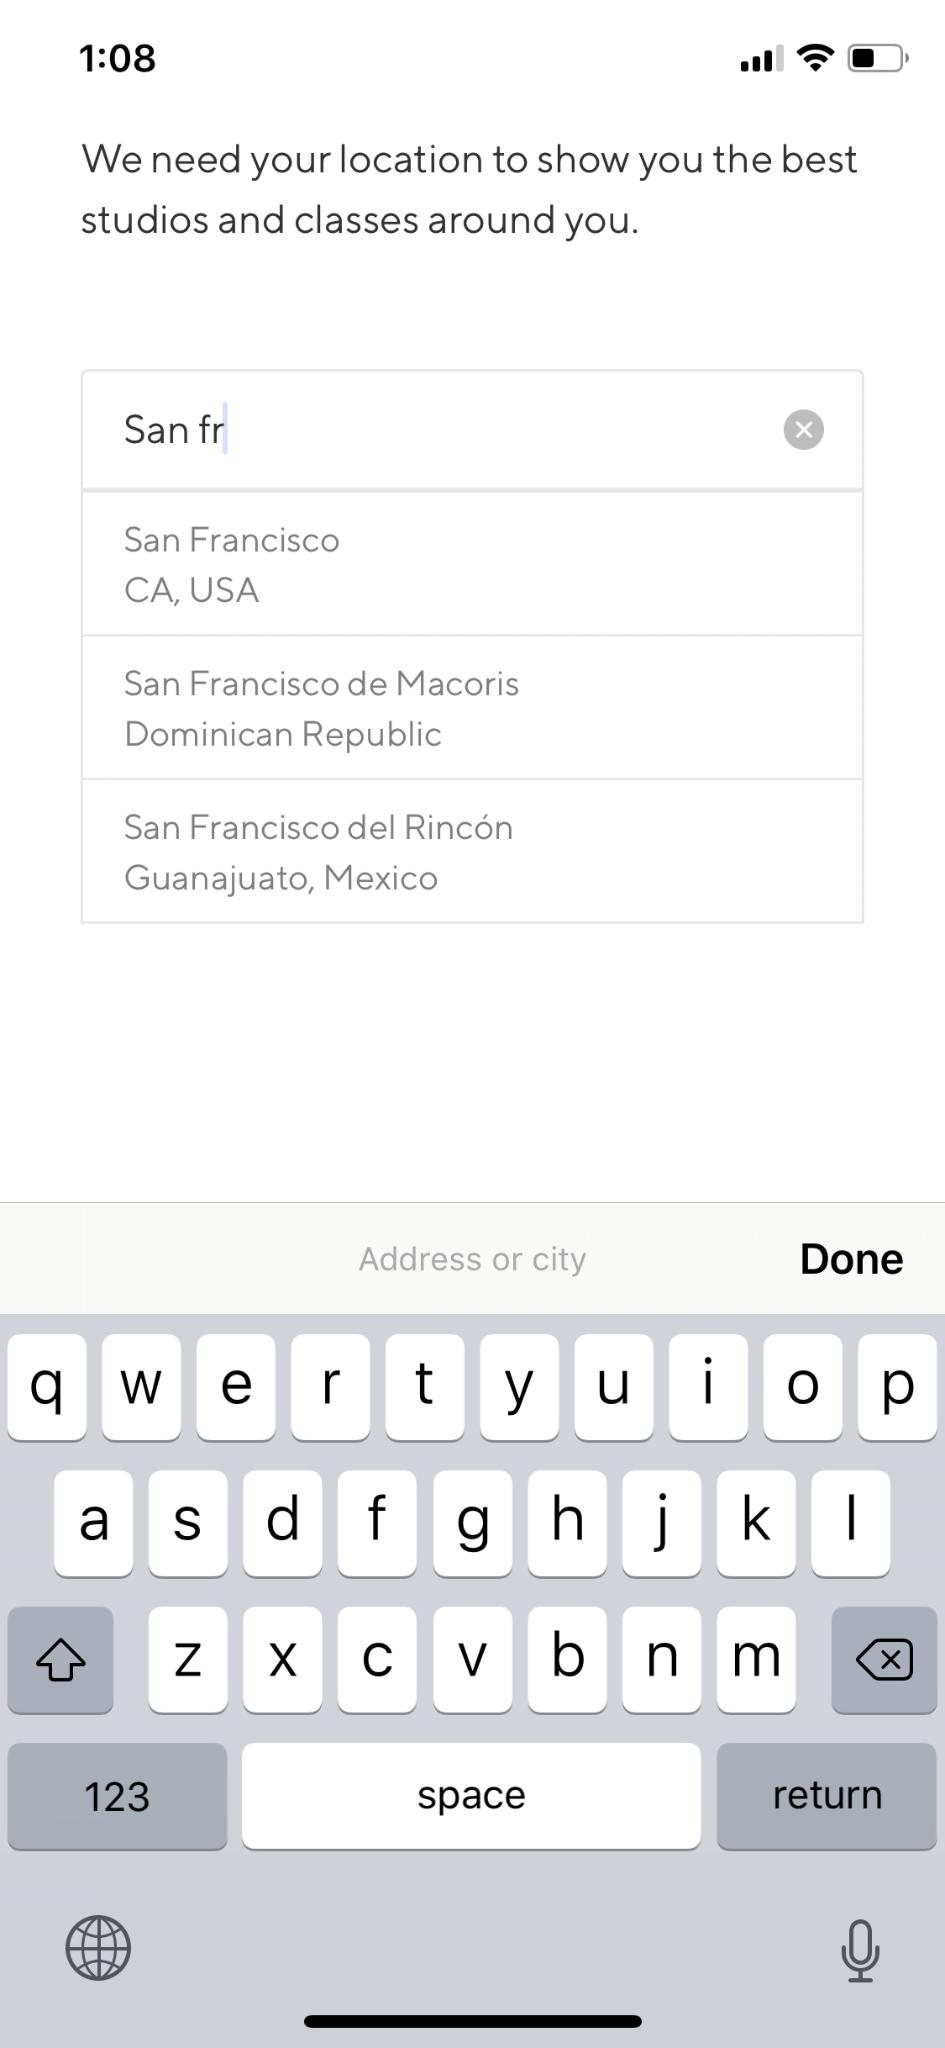Text Fields: (67, 477, 893, 643), (64, 351, 888, 505), (67, 633, 891, 786), (80, 781, 878, 926)
